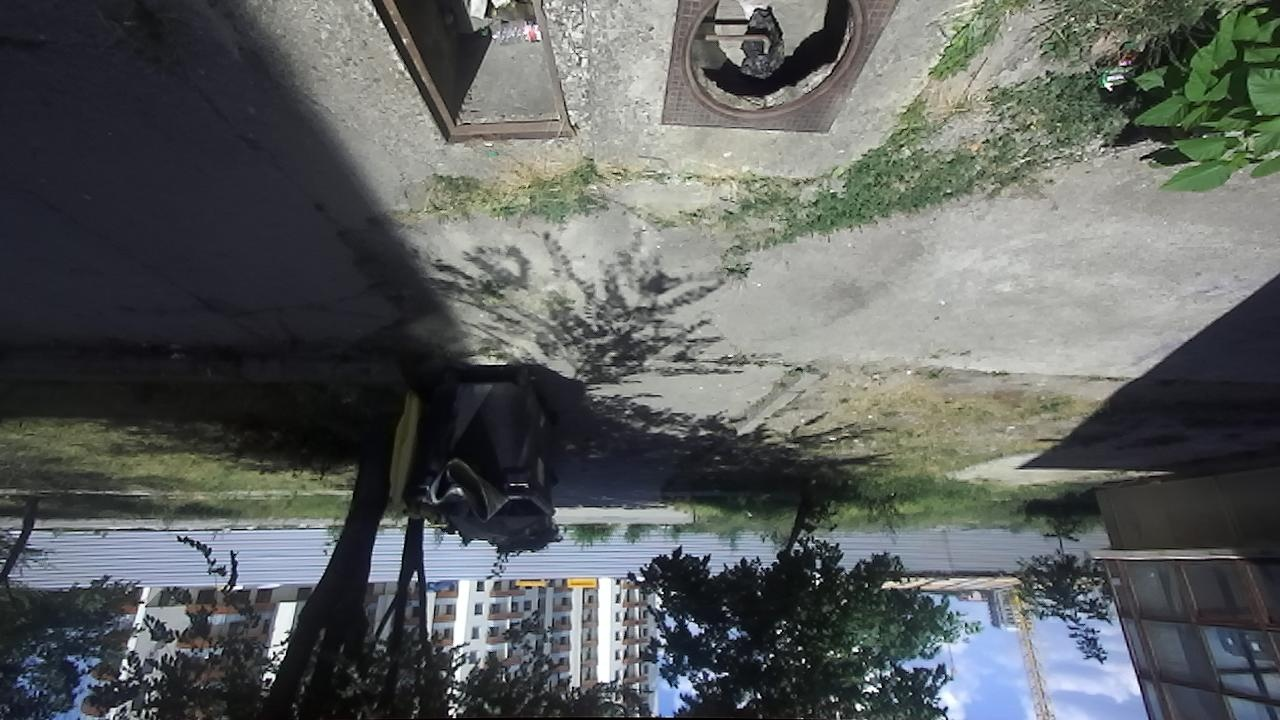drain: (370, 0, 578, 146), (684, 0, 881, 120)
